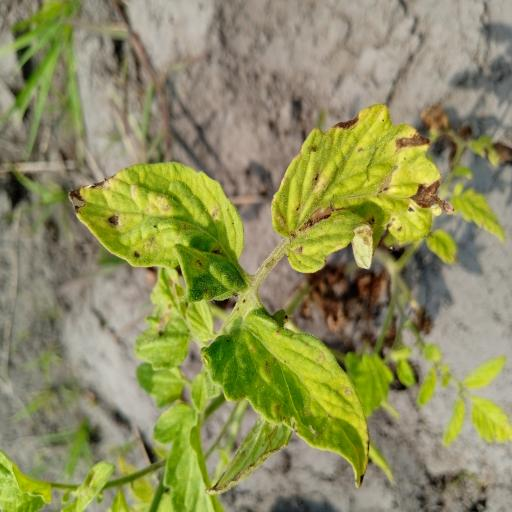Tomato_Brown_Spots: (190, 305, 377, 489), (266, 100, 448, 273), (68, 155, 251, 280)
